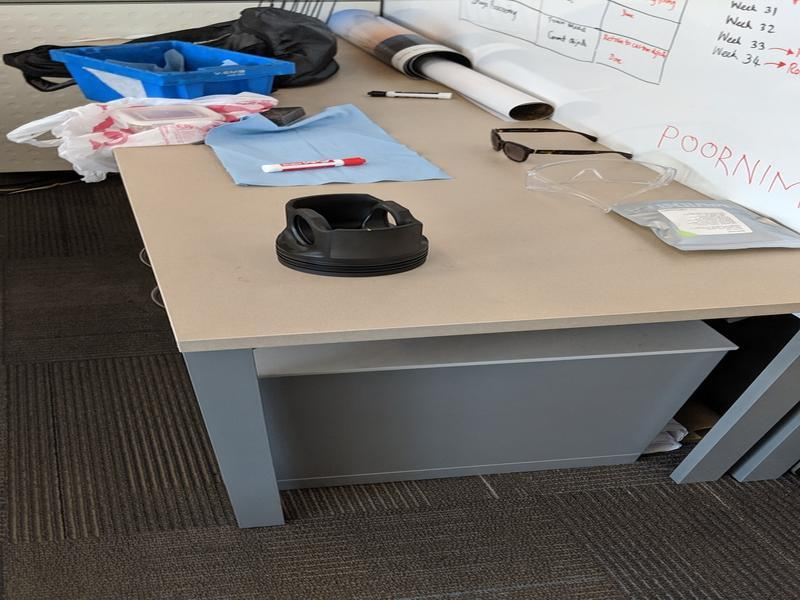piston: (273, 192, 432, 282)
